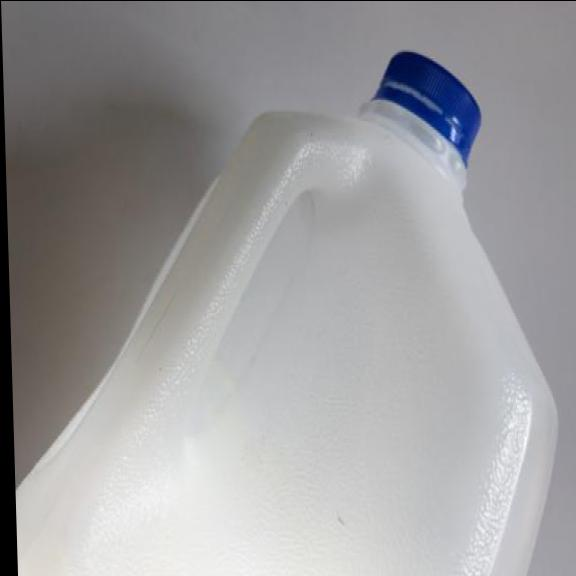Plastik: (2, 46, 564, 576)
